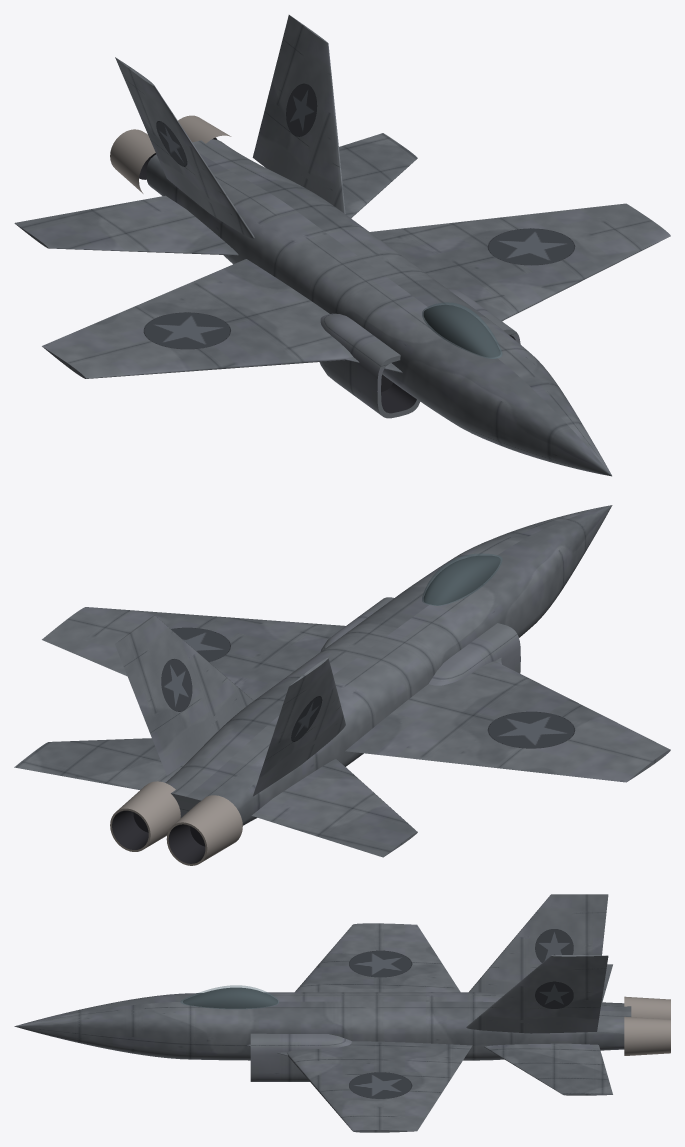
3 views of the same model, one above another, from view 1: azimuth 30°, elevation 25°; view 2: azimuth 150°, elevation 25°; view 3: azimuth 270°, elevation 25° (orthographic). The views are drawn at different scales.
Parts seen in each view (by area): view 1: Fuselage, Wing0_R, Wing0_L, Fin3_L, Htail2_R, Fin3_R, Intake_R, Htail2_L, Canopy, Decal_Wing_U_R, Decal_Wing_U_L, Cockpit (+3 smaller); view 2: Fuselage, Wing0_R, Wing0_L, Fin3_L, Htail2_R, Htail2_L, Fin3_R, Nozzle_R, Nozzle_L, Intake_R, Decal_Wing_U_R, Canopy (+5 smaller); view 3: Fuselage, Wing0_L, Wing0_R, Fin3_L, Fin3_R, Htail2_L, Intake_L, Nozzle_L, Canopy, Cockpit, Decal_Wing_U_R, Decal_Wing_U_L (+3 smaller).
Part boxes in pixels (x1=…): Fuselage: x1=146, y1=139, x2=611, y2=476; Wing0_R: x1=42, y1=259, x2=352, y2=378; Wing0_L: x1=370, y1=203, x2=670, y2=321; Fin3_L: x1=252, y1=15, x2=345, y2=213; Htail2_R: x1=14, y1=195, x2=238, y2=255; Fin3_R: x1=115, y1=57, x2=254, y2=238; Intake_R: x1=319, y1=313, x2=420, y2=418; Htail2_L: x1=339, y1=133, x2=417, y2=218; Canopy: x1=422, y1=302, x2=502, y2=358; Decal_Wing_U_R: x1=143, y1=312, x2=230, y2=349; Decal_Wing_U_L: x1=487, y1=228, x2=575, y2=265; Cockpit: x1=423, y1=305, x2=500, y2=357; Fuselage: x1=165, y1=505, x2=612, y2=825; Wing0_R: x1=345, y1=661, x2=670, y2=782; Wing0_L: x1=42, y1=607, x2=345, y2=700; Fin3_L: x1=115, y1=615, x2=253, y2=775; Htail2_R: x1=251, y1=759, x2=417, y2=857; Htail2_L: x1=14, y1=738, x2=187, y2=789; Fin3_R: x1=253, y1=657, x2=345, y2=796; Nozzle_R: x1=166, y1=795, x2=242, y2=865; Nozzle_L: x1=110, y1=781, x2=180, y2=851; Intake_R: x1=429, y1=623, x2=520, y2=685; Decal_Wing_U_R: x1=487, y1=711, x2=575, y2=748; Canopy: x1=422, y1=553, x2=502, y2=605; Fuselage: x1=14, y1=992, x2=631, y2=1060; Wing0_L: x1=286, y1=1041, x2=472, y2=1132; Wing0_R: x1=295, y1=923, x2=460, y2=992; Fin3_L: x1=466, y1=955, x2=608, y2=1033; Fin3_R: x1=469, y1=894, x2=608, y2=993; Htail2_L: x1=484, y1=1043, x2=612, y2=1095; Intake_L: x1=250, y1=1033, x2=351, y2=1081; Nozzle_L: x1=624, y1=1016, x2=670, y2=1055; Canopy: x1=180, y1=985, x2=278, y2=1008; Cockpit: x1=183, y1=987, x2=277, y2=1008; Decal_Wing_U_R: x1=349, y1=950, x2=412, y2=977; Decal_Wing_U_L: x1=349, y1=1072, x2=412, y2=1098.
Bounding box in the file's own units: 13.62 × 4.19 × 18.31.
Materials: 6 (2 with a texture image).
